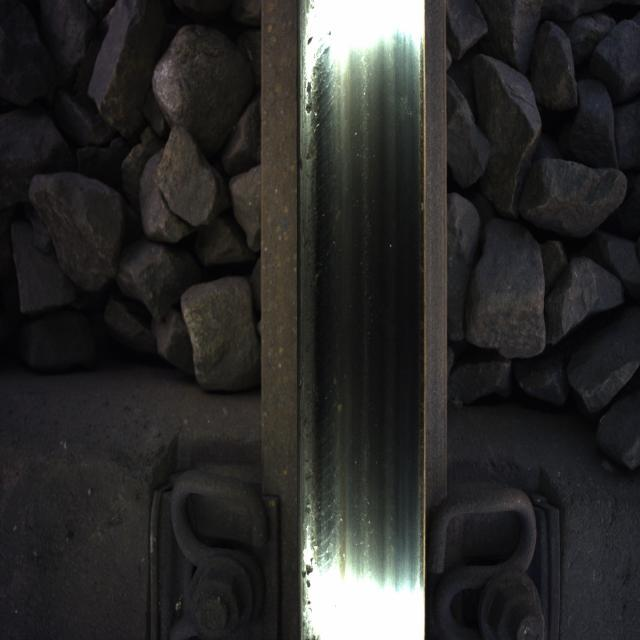scar: (300, 15, 384, 601)
